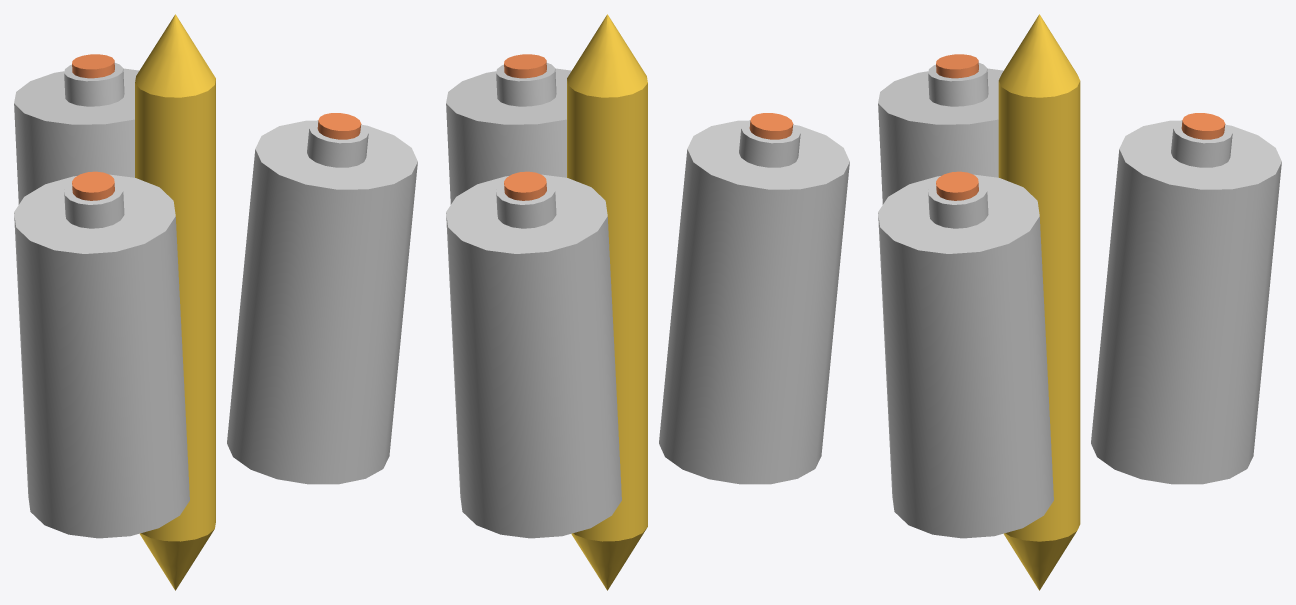
Rendered from ManaStore.glb.
The picture shows the model from 3 angles, left to right: view 1: azimuth 30°, elevation 25°; view 2: azimuth 150°, elevation 25°; view 3: azimuth 270°, elevation 25°; orthographic projection.
Parts seen in each view (by area): view 1: ManaStore Cell B, ManaStore Cell C, Origin Mana Store, ManaStore Cell A, ManaStore Cork C, ManaStore Cork B, ManaStore Cork A; view 2: ManaStore Cell C, ManaStore Cell A, Origin Mana Store, ManaStore Cell B, ManaStore Cork A, ManaStore Cork C, ManaStore Cork B; view 3: ManaStore Cell A, ManaStore Cell B, Origin Mana Store, ManaStore Cell C, ManaStore Cork B, ManaStore Cork A, ManaStore Cork C.
Boxes of the visible parts, x1=… form: ManaStore Cell B: x1=227, y1=120, x2=417, y2=484; ManaStore Cell C: x1=14, y1=174, x2=189, y2=538; Origin Mana Store: x1=135, y1=14, x2=215, y2=590; ManaStore Cell A: x1=14, y1=63, x2=138, y2=204; ManaStore Cork C: x1=72, y1=171, x2=114, y2=200; ManaStore Cork B: x1=317, y1=113, x2=361, y2=139; ManaStore Cork A: x1=72, y1=54, x2=114, y2=78; ManaStore Cell C: x1=659, y1=120, x2=849, y2=484; ManaStore Cell A: x1=446, y1=174, x2=621, y2=538; Origin Mana Store: x1=567, y1=14, x2=647, y2=590; ManaStore Cell B: x1=446, y1=63, x2=571, y2=204; ManaStore Cork A: x1=504, y1=171, x2=546, y2=200; ManaStore Cork C: x1=749, y1=113, x2=793, y2=139; ManaStore Cork B: x1=504, y1=54, x2=546, y2=78; ManaStore Cell A: x1=1091, y1=120, x2=1281, y2=484; ManaStore Cell B: x1=878, y1=174, x2=1053, y2=538; Origin Mana Store: x1=998, y1=14, x2=1080, y2=590; ManaStore Cell C: x1=878, y1=63, x2=1003, y2=204; ManaStore Cork B: x1=936, y1=171, x2=978, y2=200; ManaStore Cork A: x1=1181, y1=113, x2=1225, y2=139; ManaStore Cork C: x1=936, y1=54, x2=978, y2=78.
Bounding box in the file's own units: 5.4 × 7.8 × 4.95.
